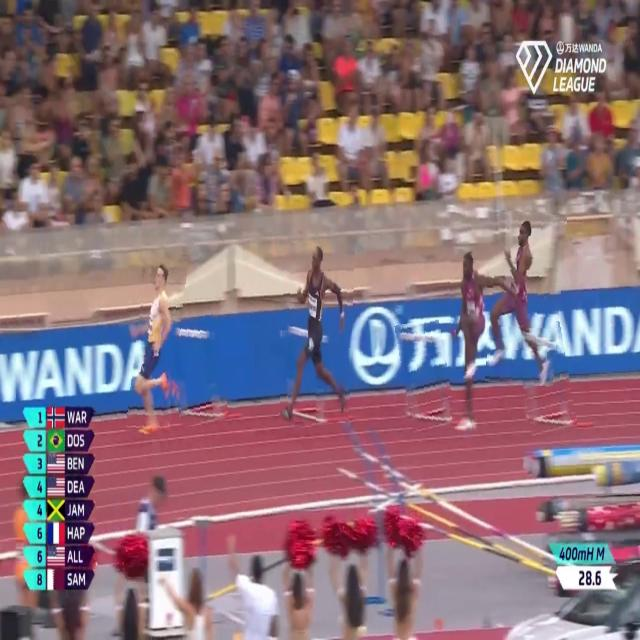athlete: (489, 211, 564, 386), (281, 242, 353, 422), (131, 258, 183, 437), (450, 253, 493, 434)
hurdle: (518, 322, 573, 438), (168, 316, 225, 425), (398, 320, 452, 432), (282, 319, 336, 427)
